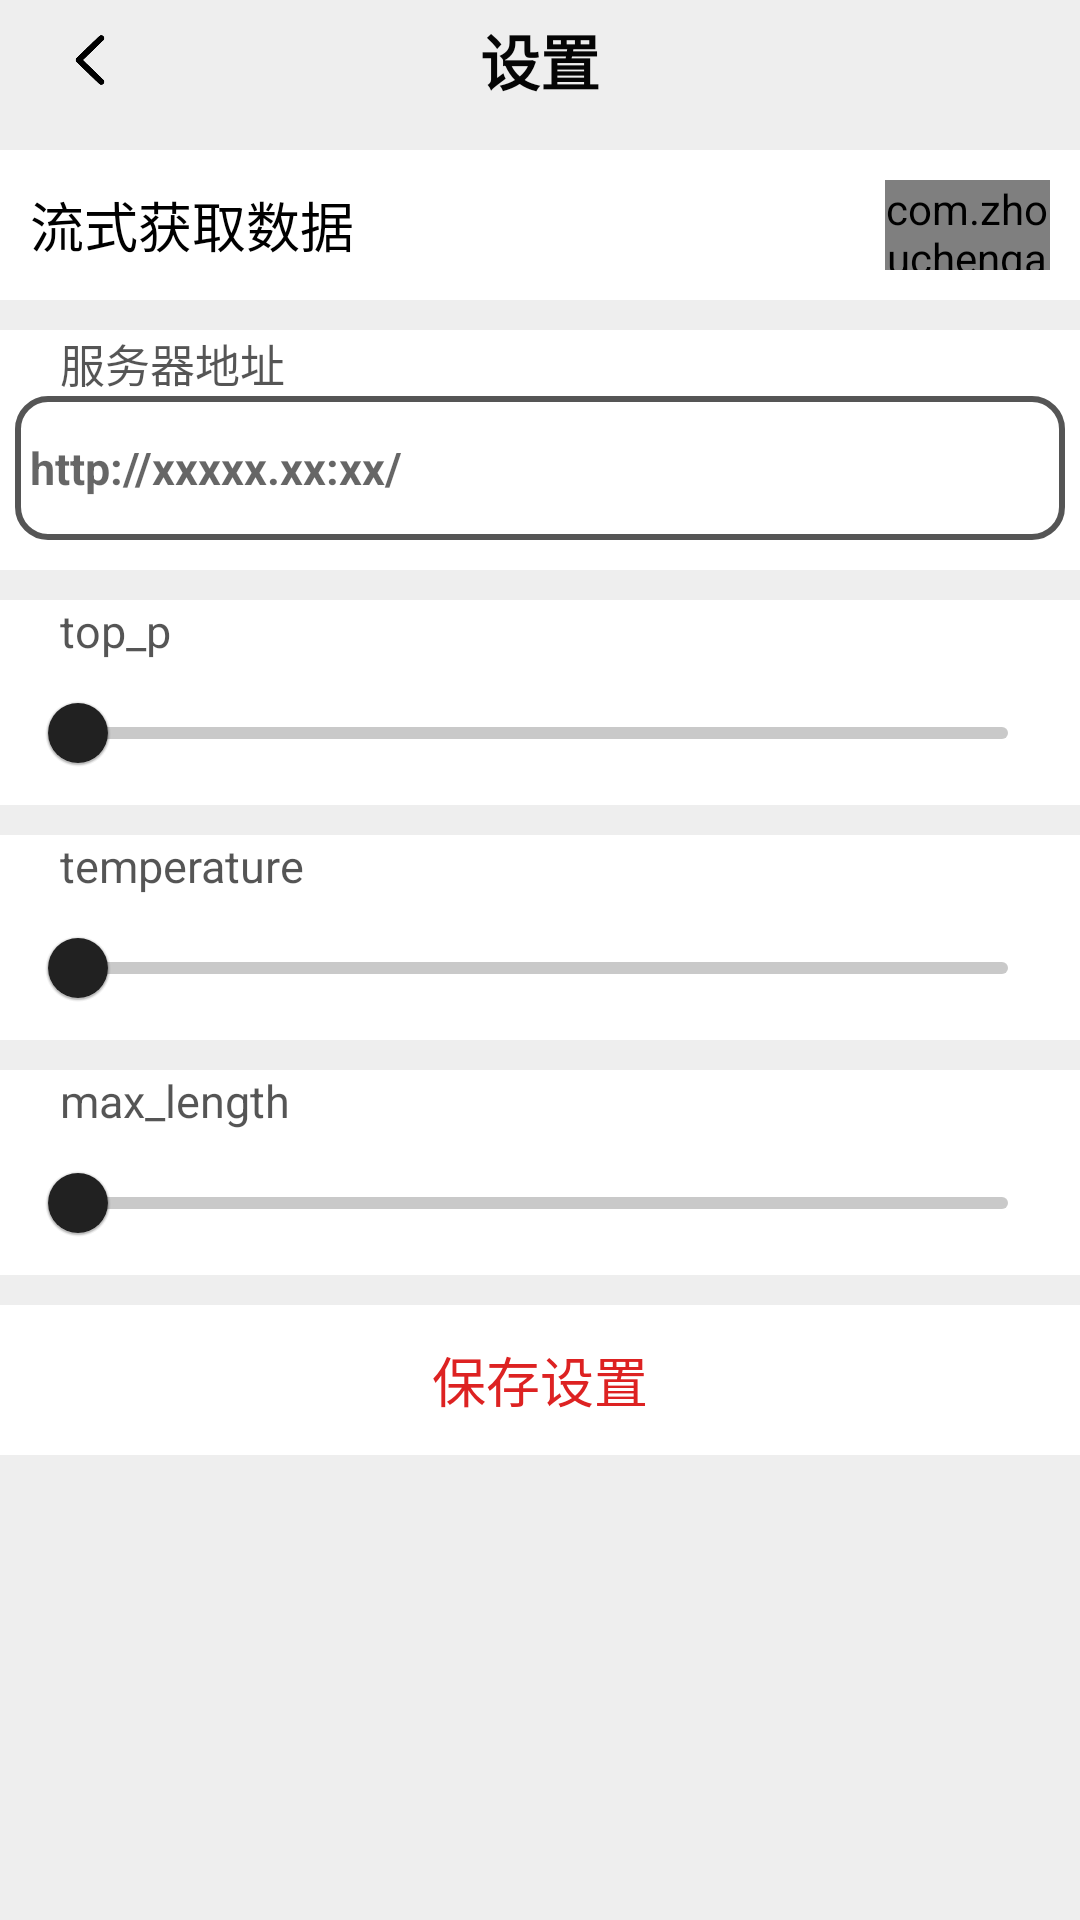

Locate icon controls on the screen. Image size 1080x1920, boxes as (x1, y1, x2, y2).
return: (76, 35, 105, 85)
